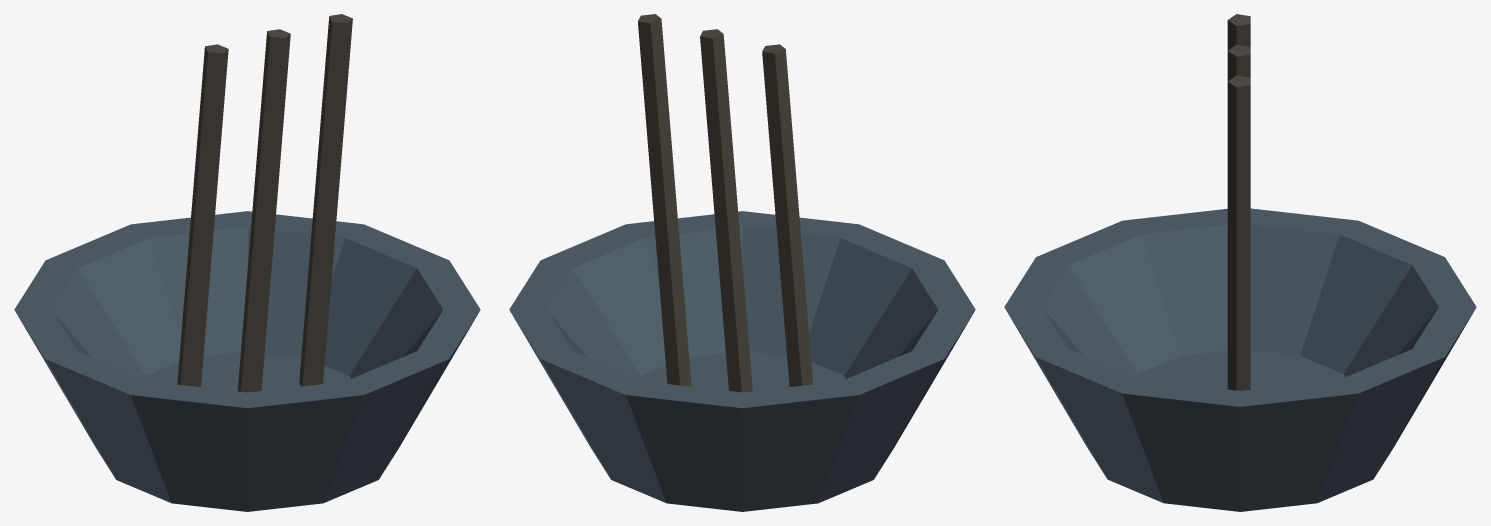
Rendered from incense-bowl.glb.
3 renders of one model, left to right at view 1: azimuth 30°, elevation 25°; view 2: azimuth 150°, elevation 25°; view 3: azimuth 270°, elevation 25°, orthographic.
Visible parts, largest first — view 1: incense-bowl__body; view 2: incense-bowl__body; view 3: incense-bowl__body.
Boxes of the visible parts, <box> form: incense-bowl__body: <box>14,14,480,511</box>; incense-bowl__body: <box>509,14,975,511</box>; incense-bowl__body: <box>1004,14,1476,511</box>.
Bounding box in the file's own units: 0.26 × 0.2506 × 0.26.
